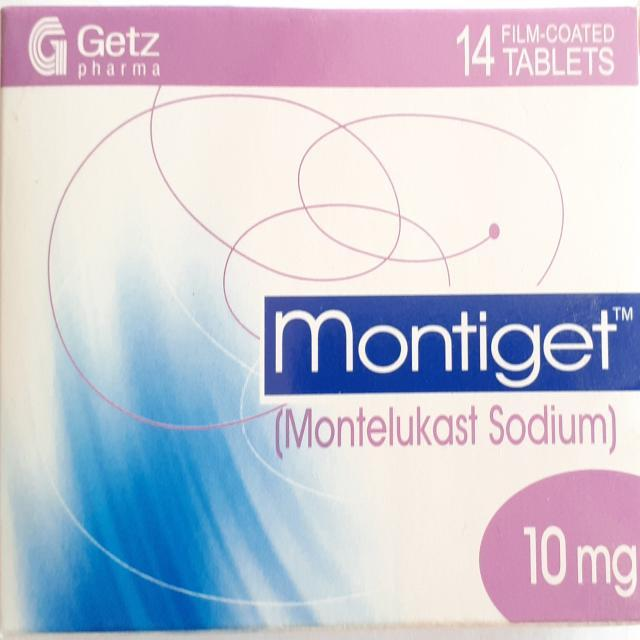drug-name: (270, 300, 636, 386)
